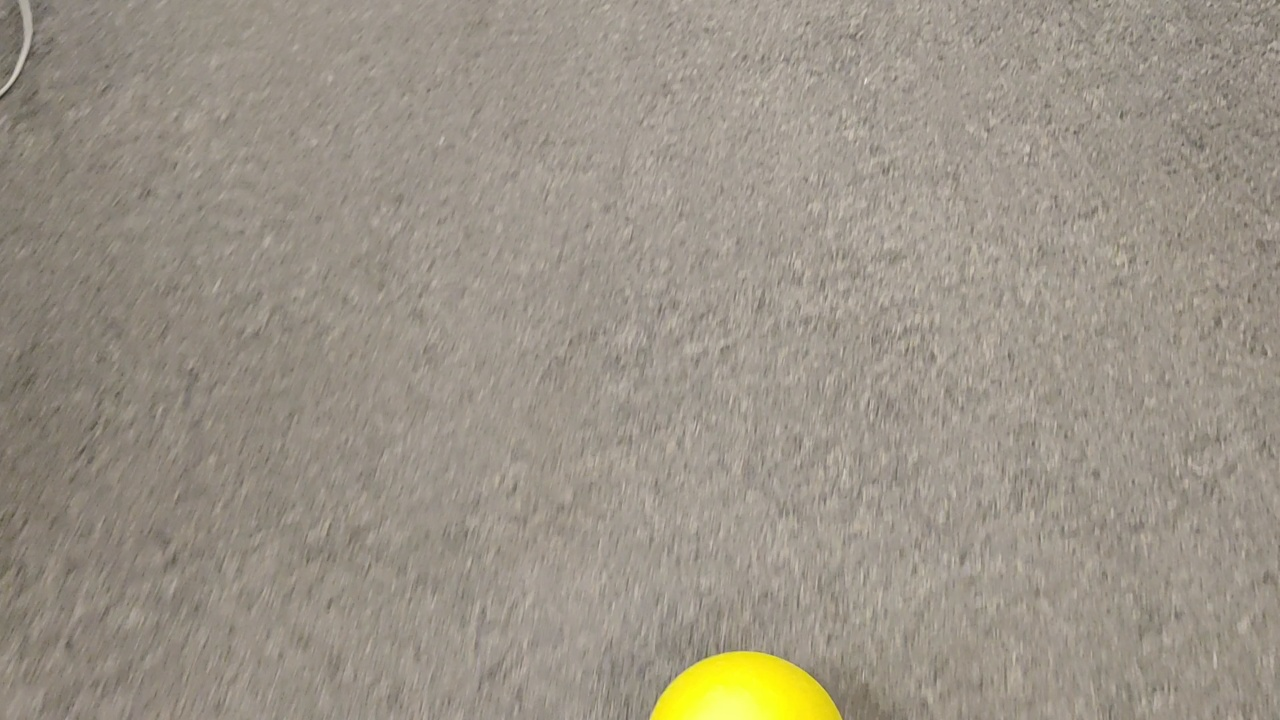Ball: (650, 650, 846, 720)
